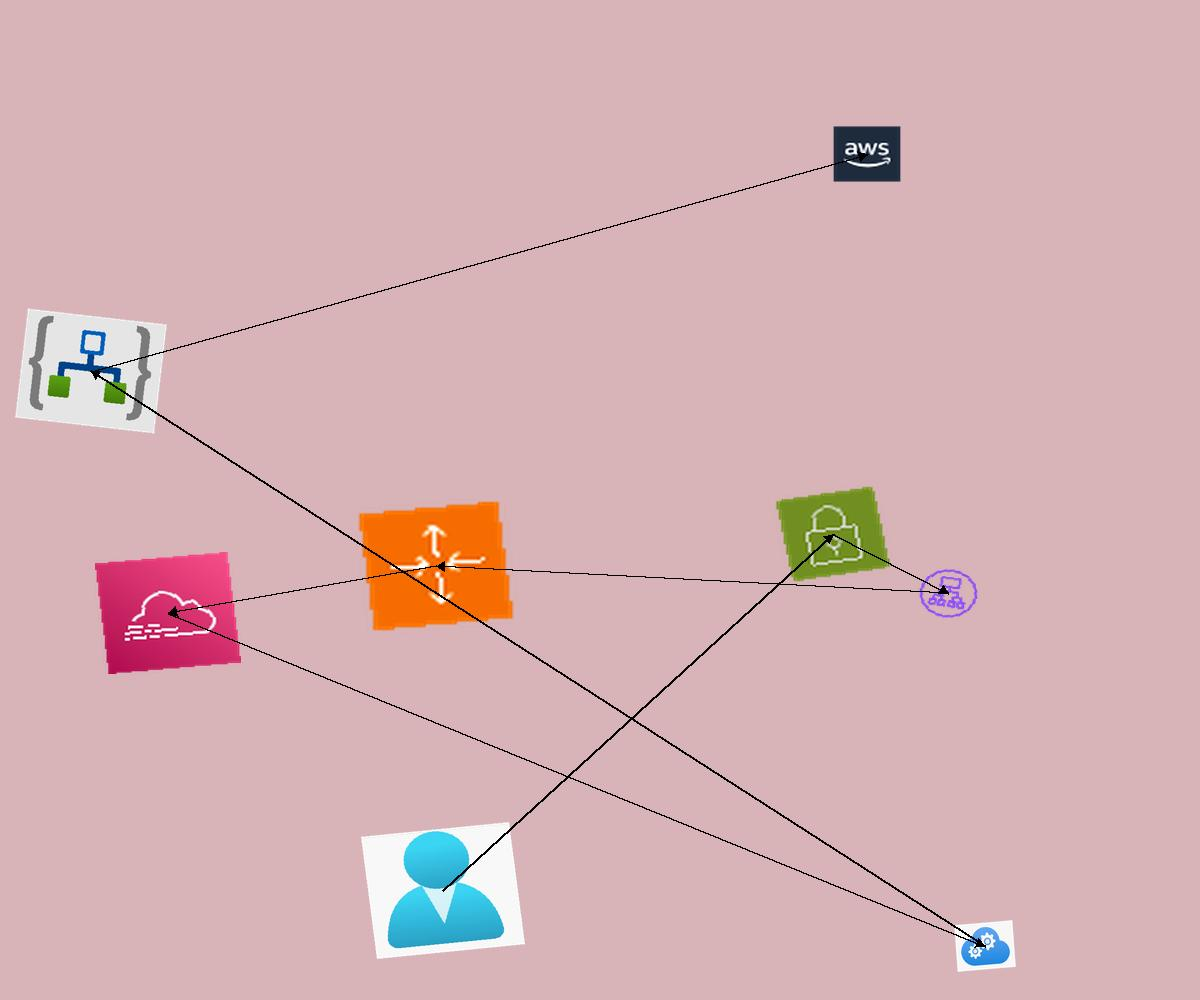AWS-Cloud-logo: (832, 125, 902, 183)
AWS-CloudTrail: (95, 552, 241, 674)
AWS-Public-subnet: (774, 485, 892, 583)
AWS-Res_Elastic-Load-Balancing_Application-Load-Balancer: (912, 563, 985, 624)
AWS-Scaling-group: (356, 499, 516, 633)
Azure_cloud_services: (954, 920, 1016, 972)
Azure_integration-204-Logic-Apps: (15, 308, 167, 434)
Azure_users: (361, 822, 525, 959)
